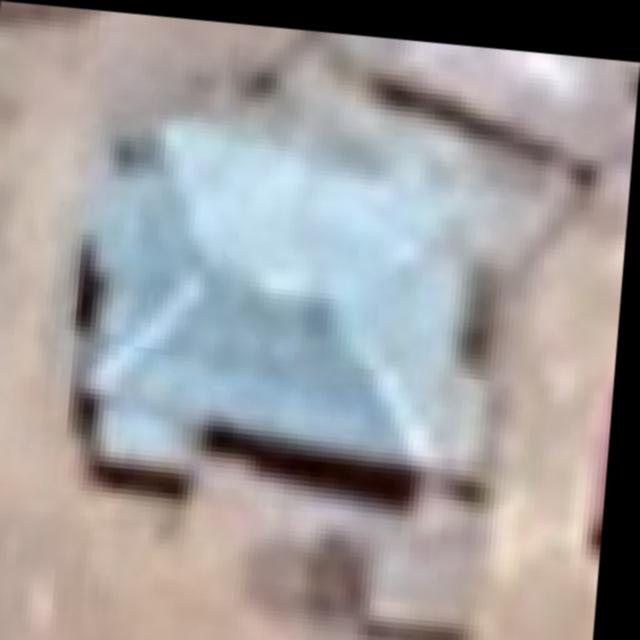Batiment: (85, 45, 567, 483)
